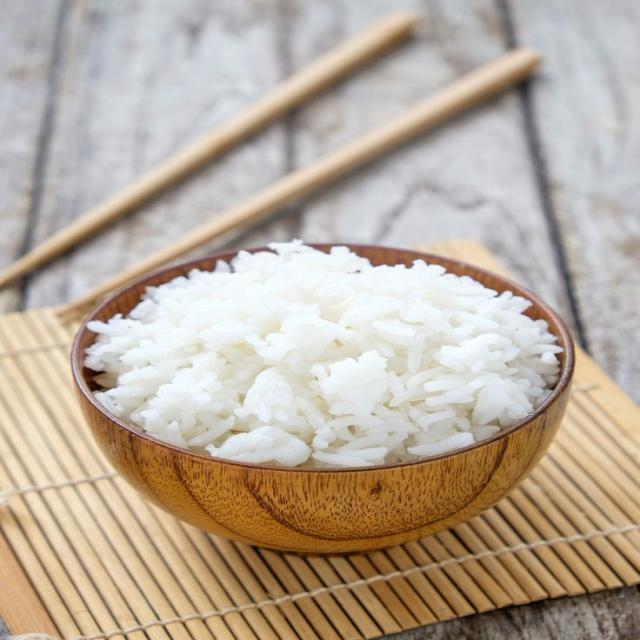rice: (86, 242, 561, 466)
